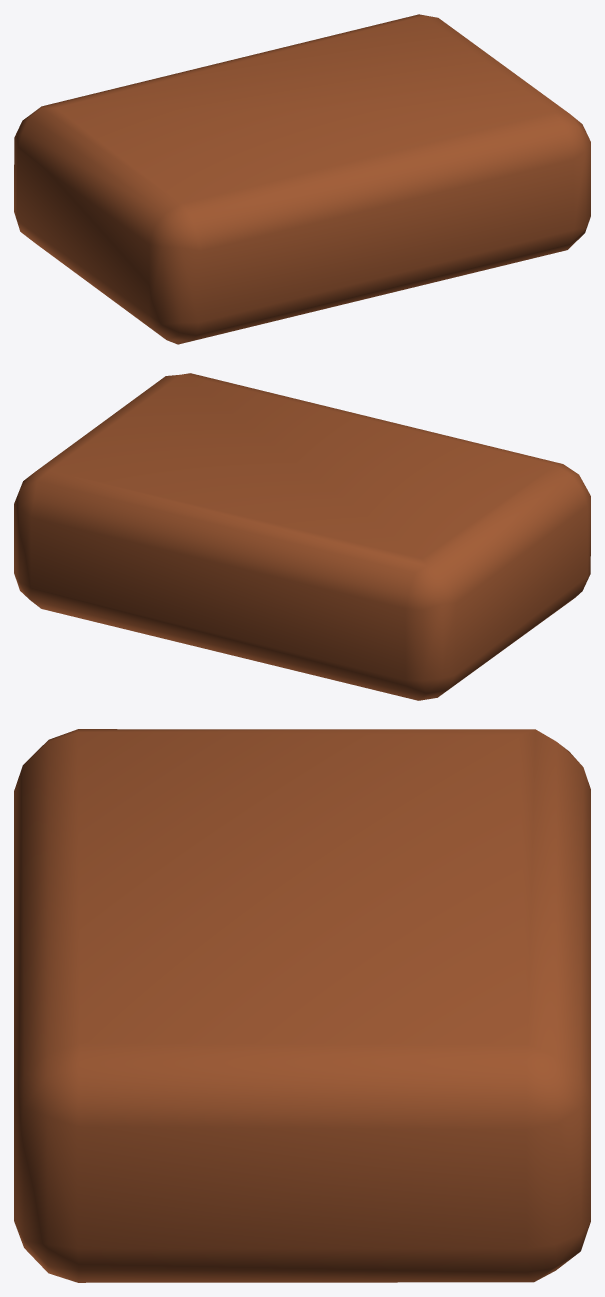
Rendered from tui_che_dau.glb.
3 renders of one model, top to bottom at view 1: azimuth 30°, elevation 25°; view 2: azimuth 150°, elevation 25°; view 3: azimuth 270°, elevation 25°, orthographic. The views are drawn at different scales.
Parts seen in each view (by area): view 1: tui_che_dau; view 2: tui_che_dau; view 3: tui_che_dau.
Part boxes in pixels (box(x1,y1,x2,y2)): tui_che_dau: box(14, 14, 590, 344); tui_che_dau: box(14, 373, 590, 700); tui_che_dau: box(14, 729, 590, 1282).
Size of the model in its own units: 0.2999 by 0.09 by 0.1999.
